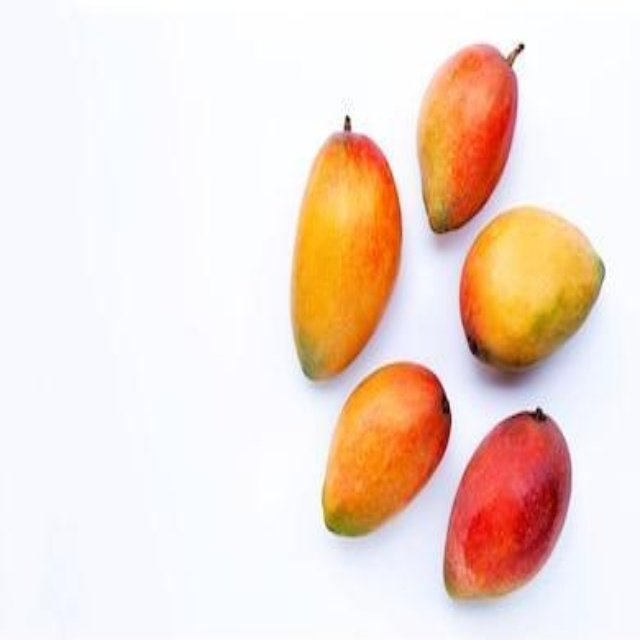mango: (289, 128, 399, 380), (464, 206, 609, 371), (444, 415, 574, 599), (326, 362, 454, 533), (415, 40, 515, 230)
